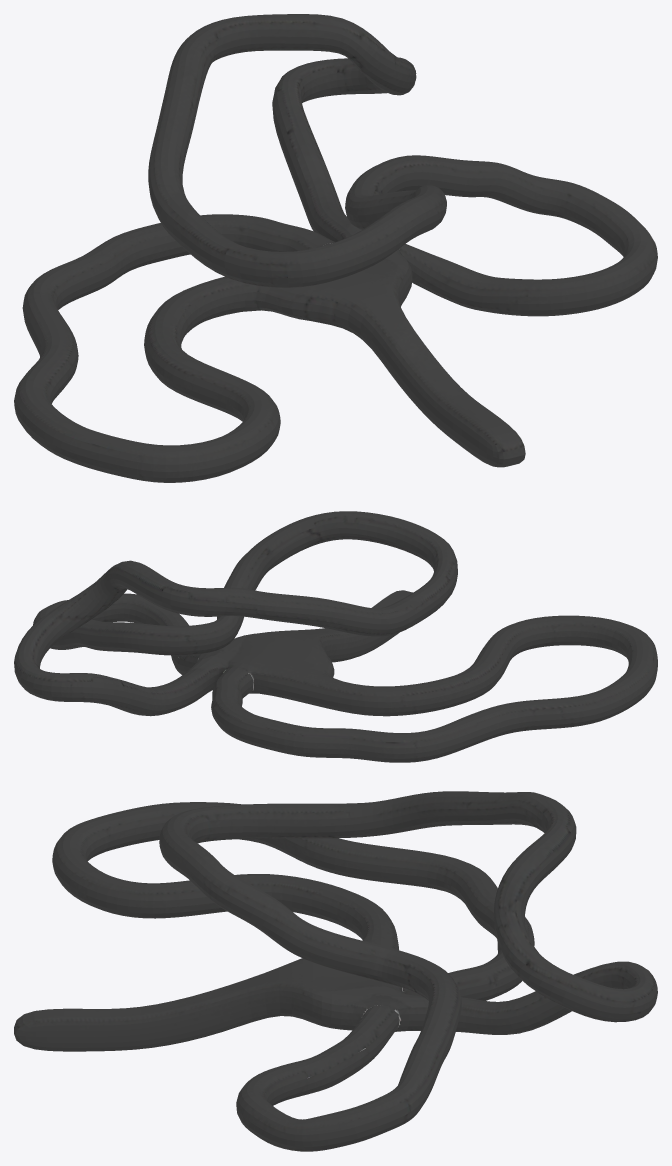
File: tunnel 3.glb
3 views of the same model, one above another, from view 1: azimuth 30°, elevation 25°; view 2: azimuth 150°, elevation 25°; view 3: azimuth 270°, elevation 25° (orthographic). The views are drawn at different scales.
Visible parts, largest first — view 1: Plane; view 2: Plane; view 3: Plane.
Boxes of the visible parts, x1,y1,x2,y2 form: Plane: (14, 14, 657, 482); Plane: (14, 511, 657, 762); Plane: (14, 791, 657, 1151).
Bounding box in the file's own units: 39.28 × 13.54 × 34.17.
Materials: 1 (1 with a texture image).
